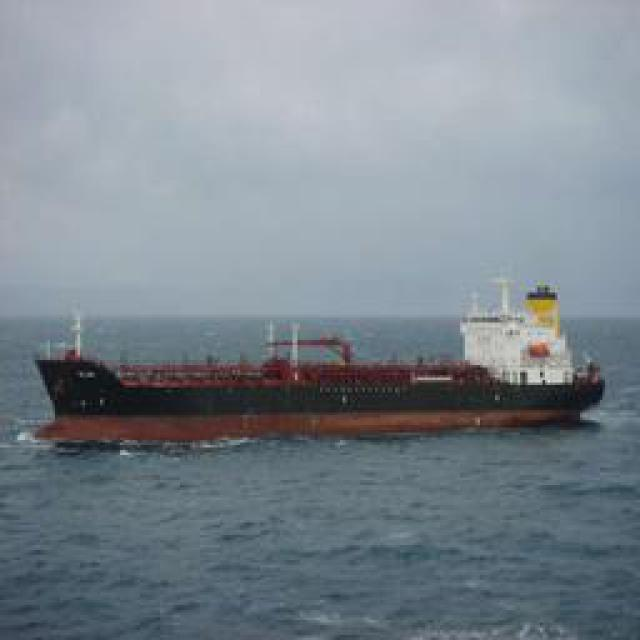Ship: (24, 279, 619, 449)
